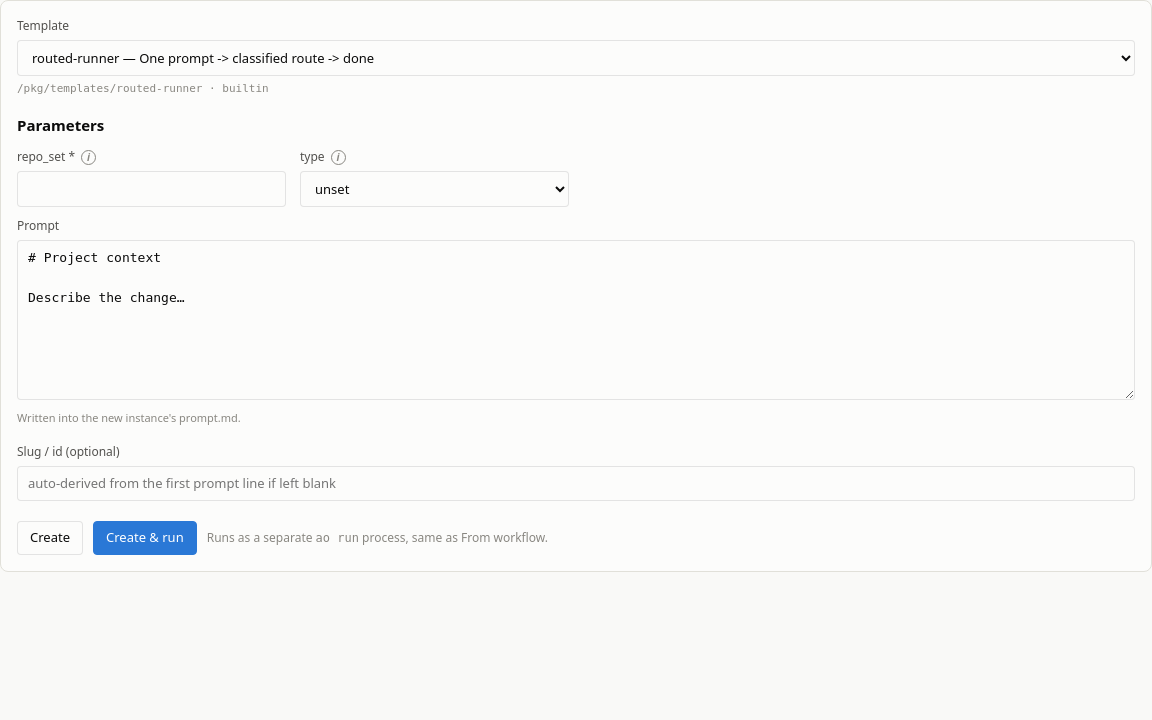
Test: TemplateLaunch › resets param values and prompt when the selected template changes
Step 1. Type "main" into the field labelled "repo_set *" → (152, 189), box x1=17 y1=171 x2=286 y2=206
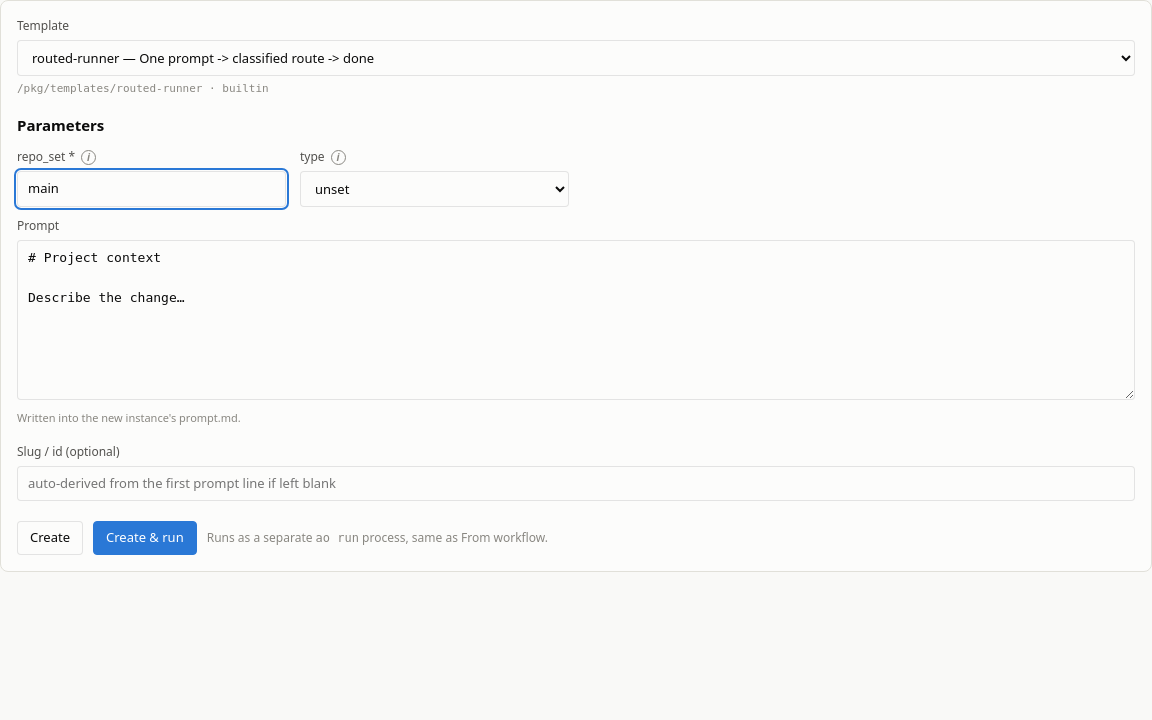
Step 2. Select "no-params — A template with no declared params" in the dropdown labelled "Template" → (576, 58), box x1=17 y1=40 x2=1135 y2=76
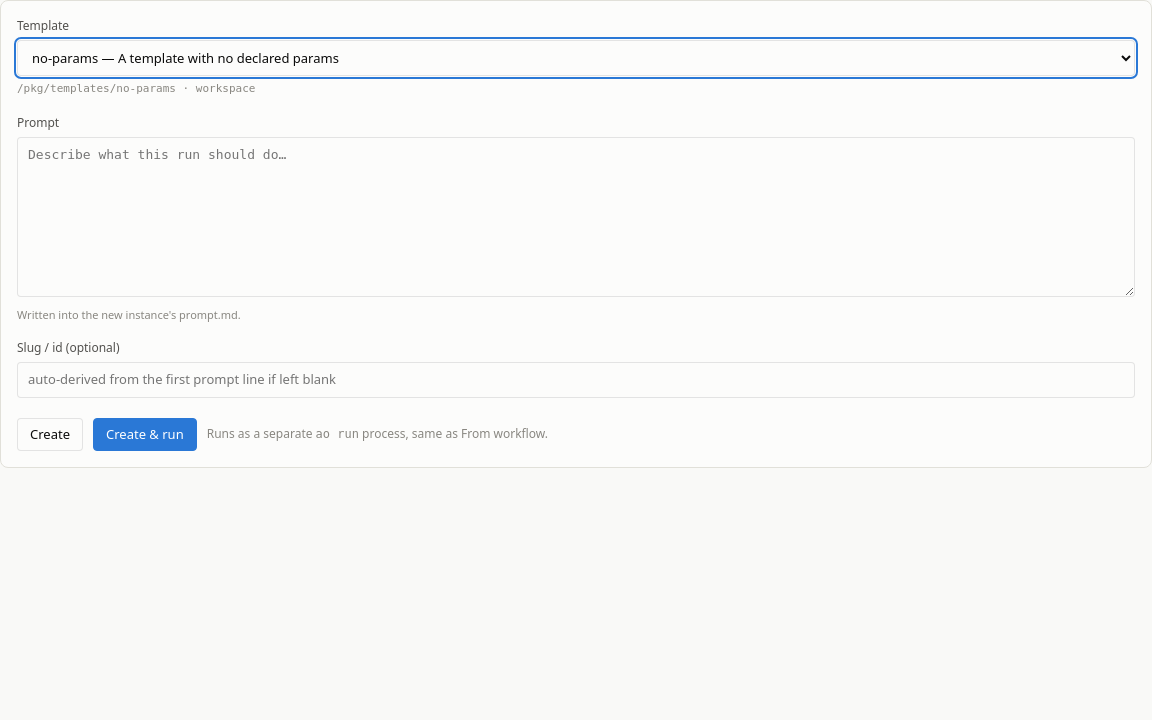
Result: the label labelled "repo_set" is gone
Result: the text box labelled "Prompt" is empty at x1=17 y1=136 x2=1135 y2=296
